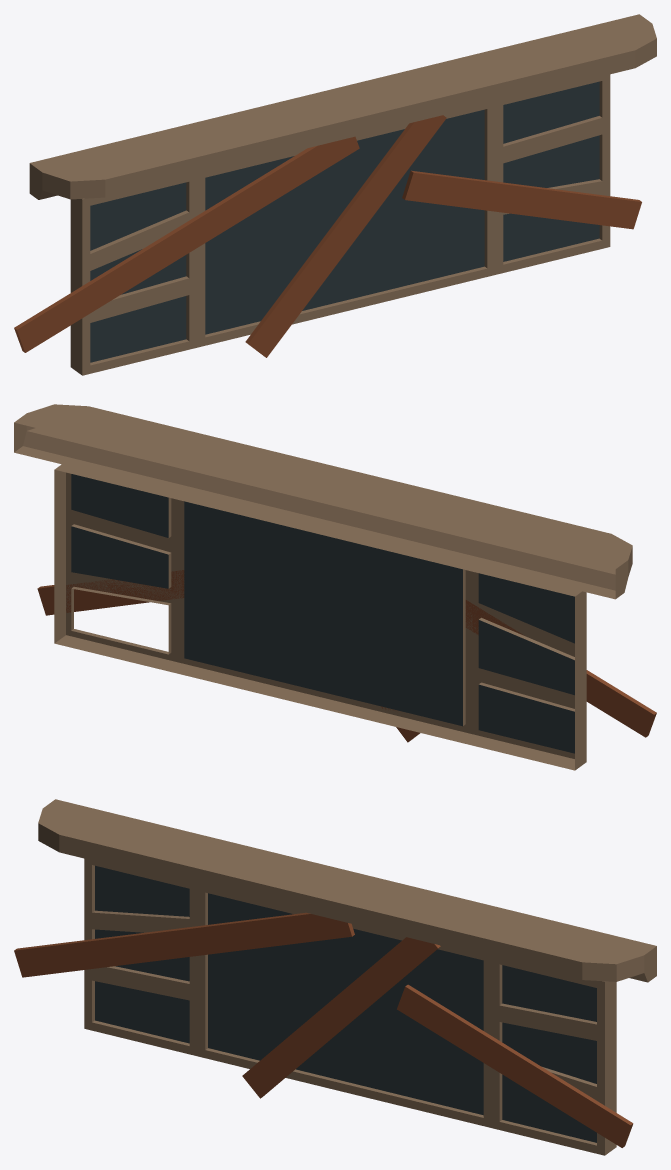
The model's file is LP_PostApoc_Window2.fbx.
3 renders of one model, top to bottom at view 1: azimuth 30°, elevation 25°; view 2: azimuth 150°, elevation 25°; view 3: azimuth 330°, elevation 25°, orthographic.
Visible parts, largest first — view 1: Window2; view 2: Window2; view 3: Window2.
Boxes of the visible parts, x1,y1,x2,y2 form: Window2: [14, 14, 656, 375]; Window2: [14, 404, 656, 770]; Window2: [14, 799, 656, 1155].
Size of the model in its own units: 510 by 182 by 49.78.
